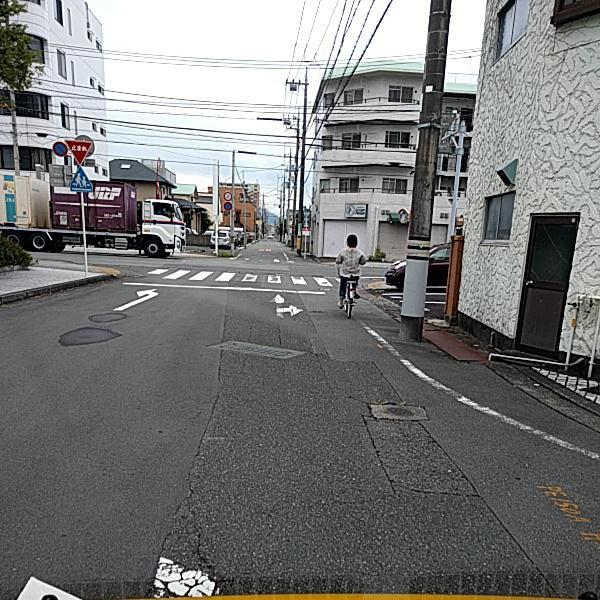D00: (175, 500, 214, 569), (303, 340, 333, 404), (235, 351, 247, 379), (277, 358, 289, 381), (244, 317, 254, 342), (273, 322, 282, 347)
D10: (363, 478, 475, 501)
D44: (367, 330, 594, 461)
D50: (377, 402, 413, 416)
